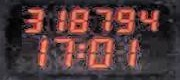0: (86, 37, 112, 67)
1: (36, 38, 47, 67), (127, 39, 137, 68), (57, 9, 64, 30)
3: (24, 8, 42, 32)
4: (138, 9, 157, 30)
7: (54, 37, 72, 66), (94, 8, 111, 31)
8: (67, 8, 88, 32)
9: (115, 7, 134, 32)
X: (76, 42, 84, 58)
